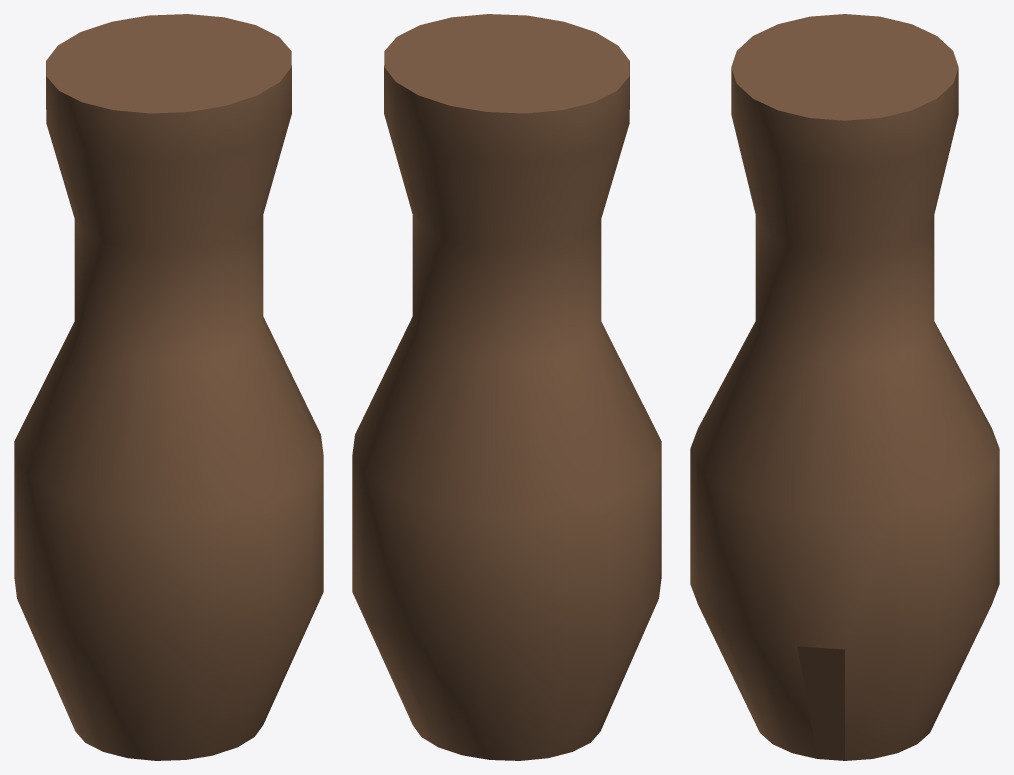
The model's file is pot b 1.fbx.
3 renders of one model, left to right at view 1: azimuth 30°, elevation 25°; view 2: azimuth 150°, elevation 25°; view 3: azimuth 270°, elevation 25°, orthographic.
Parts seen in each view (by area): view 1: pot; view 2: pot; view 3: pot.
Part boxes in pixels (x1,y1,x2,y2): pot: (14,14,323,760); pot: (352,14,661,760); pot: (690,14,999,760).
Size of the model in its own units: 0.2482 by 0.5815 by 0.2491.
